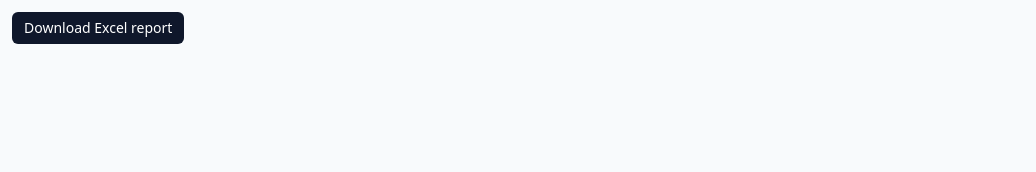
ExportPanel › does not hide other failures behind the background fallback
Step 1. Click the button "Download Excel report" → x=98, y=28, box [12,12,184,44]
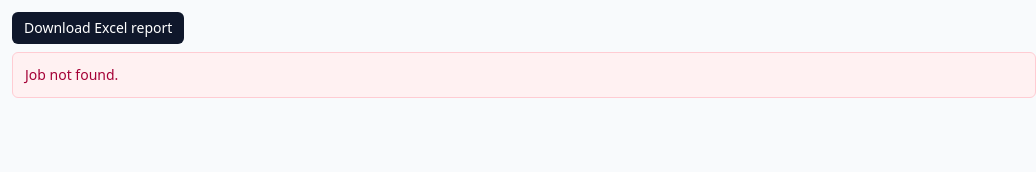
Check: the message reads "Job not found.", box [25,65,118,84]
